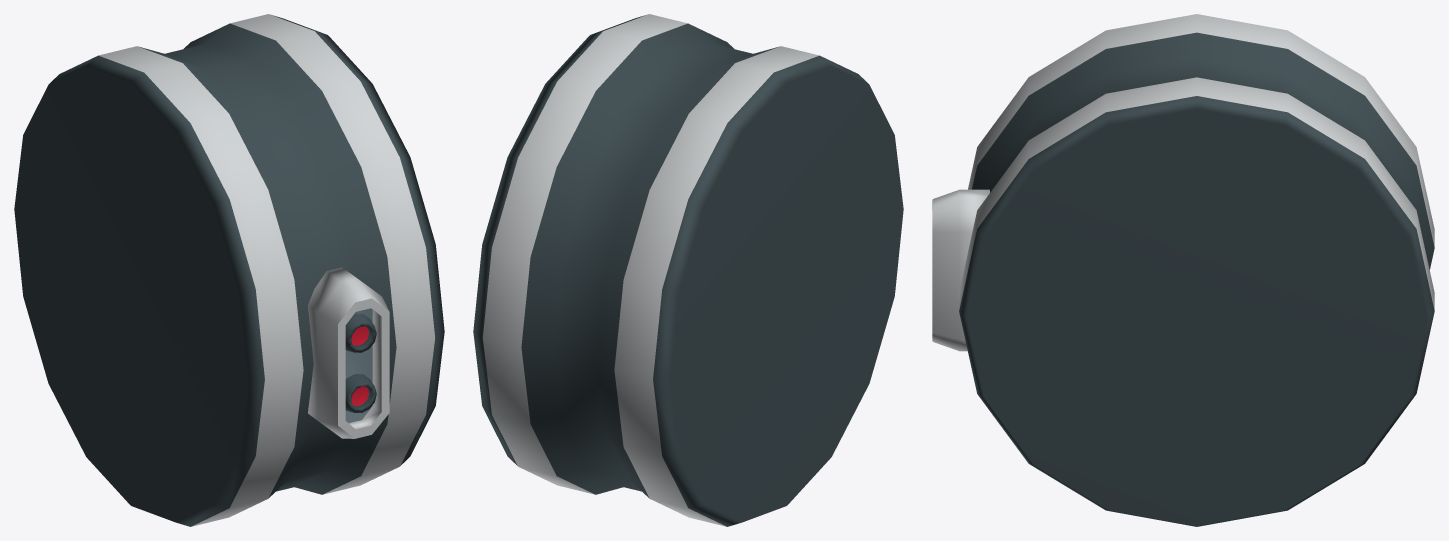
The model's file is Turret_007_Part_02.fbx.
3 views of the same model, side by side, from view 1: azimuth 30°, elevation 25°; view 2: azimuth 150°, elevation 25°; view 3: azimuth 270°, elevation 25° (orthographic).
Parts seen in each view (by area): view 1: Turret_007_Part_02; view 2: Turret_007_Part_02; view 3: Turret_007_Part_02.
Boxes of the visible parts, x1,y1,x2,y2 form: Turret_007_Part_02: (14,14,444,526); Turret_007_Part_02: (473,14,903,526); Turret_007_Part_02: (932,14,1434,526).
Size of the model in its own units: 34.41 by 77 by 72.9.
